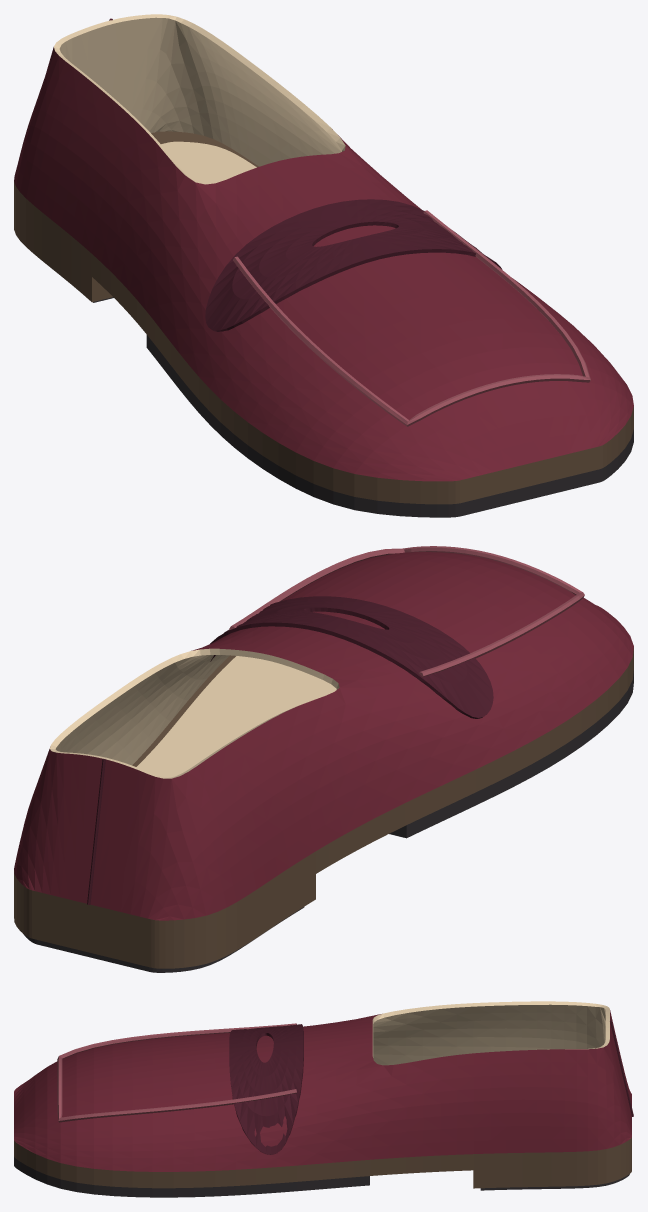
Rendered from loafer.obj.
3 renders of one model, top to bottom at view 1: azimuth 30°, elevation 25°; view 2: azimuth 150°, elevation 25°; view 3: azimuth 270°, elevation 25°, orthographic. The views are drawn at different scales.
Parts seen in each view (by area): view 1: upper-with-inward-lining, brown-midsole, perforated-saddle, dark-forepart, rounded-apron-pipe, cream-footbed, low-stacked-heel; view 2: upper-with-inward-lining, brown-midsole, perforated-saddle, cream-footbed, low-stacked-heel, rounded-apron-pipe, dark-forepart, dark-heel-patch, counter-seam; view 3: upper-with-inward-lining, brown-midsole, perforated-saddle, dark-forepart, low-stacked-heel, rounded-apron-pipe, dark-heel-patch.
Part boxes in pixels (x1,y1,x2,y2): upper-with-inward-lining: (14, 14, 633, 481); brown-midsole: (14, 131, 633, 504); perforated-saddle: (205, 199, 502, 331); dark-forepart: (146, 335, 633, 517); rounded-apron-pipe: (233, 210, 590, 426); cream-footbed: (161, 141, 256, 184); low-stacked-heel: (14, 204, 112, 302); upper-with-inward-lining: (14, 552, 633, 920); brown-midsole: (14, 648, 633, 943); perforated-saddle: (210, 596, 493, 718); cream-footbed: (136, 656, 336, 777); low-stacked-heel: (14, 874, 315, 968); rounded-apron-pipe: (229, 546, 584, 677); dark-forepart: (389, 671, 633, 838); dark-heel-patch: (23, 907, 304, 972); counter-seam: (87, 759, 105, 904); upper-with-inward-lining: (14, 1001, 631, 1171); brown-midsole: (14, 1137, 631, 1188); perforated-saddle: (229, 1024, 303, 1154); dark-forepart: (14, 1157, 369, 1197); low-stacked-heel: (473, 1154, 631, 1188); rounded-apron-pipe: (57, 1023, 296, 1122); dark-heel-patch: (480, 1174, 629, 1190).
Bounding box in the file's own units: 1.97 × 1.08 × 4.49.
